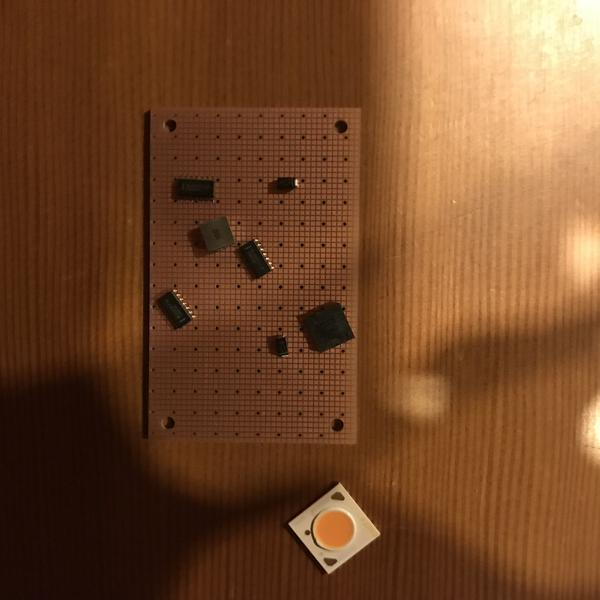board: (147, 108, 362, 445)
